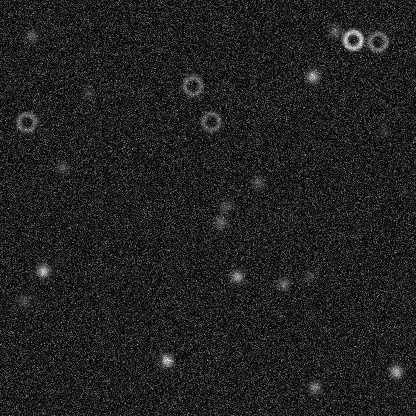Ring: (340, 27, 364, 51), (180, 73, 204, 97), (14, 110, 38, 134), (365, 29, 389, 53), (199, 109, 223, 133)
Spot: (228, 268, 244, 284), (249, 174, 265, 190), (327, 23, 343, 39), (275, 275, 291, 291), (306, 379, 322, 395), (301, 267, 317, 283), (374, 121, 390, 137), (35, 262, 51, 278), (24, 27, 40, 43), (212, 213, 228, 229), (387, 363, 403, 379), (158, 352, 174, 368), (217, 198, 233, 214), (15, 293, 31, 309), (304, 68, 320, 84), (80, 85, 96, 101), (54, 159, 70, 175)
